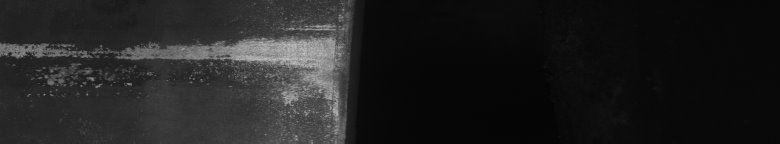kb: (236, 9, 344, 136)
